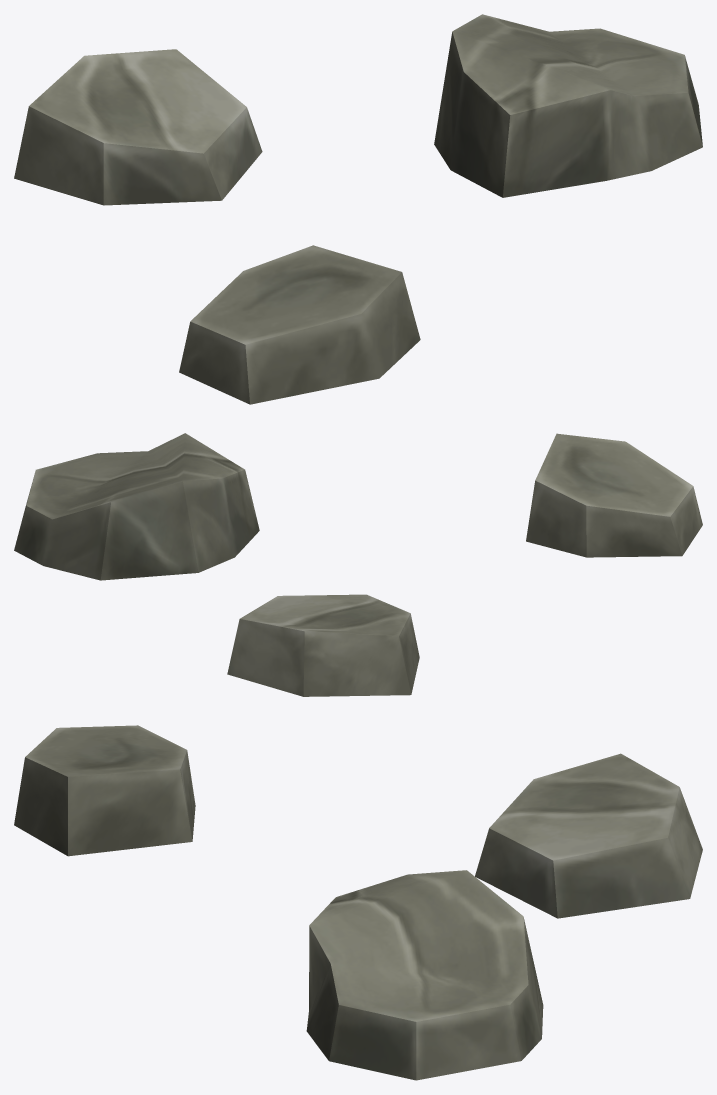
Rendered from Rock_01.fbx.
3 renders of one model, top to bottom at view 1: azimuth 30°, elevation 25°; view 2: azimuth 150°, elevation 25°; view 3: azimuth 270°, elevation 25°, orthographic. The views are drawn at different scales.
Parts seen in each view (by area): view 1: polySurface577; view 2: polySurface577; view 3: polySurface577.
Boxes of the visible parts, x1=… form: polySurface577: x1=14, y1=14, x2=702, y2=404; polySurface577: x1=14, y1=433, x2=702, y2=696; polySurface577: x1=14, y1=725, x2=702, y2=1080.
Size of the model in its own units: 96.28 by 16.57 by 88.71.
Materials: 1 (1 with a texture image).
